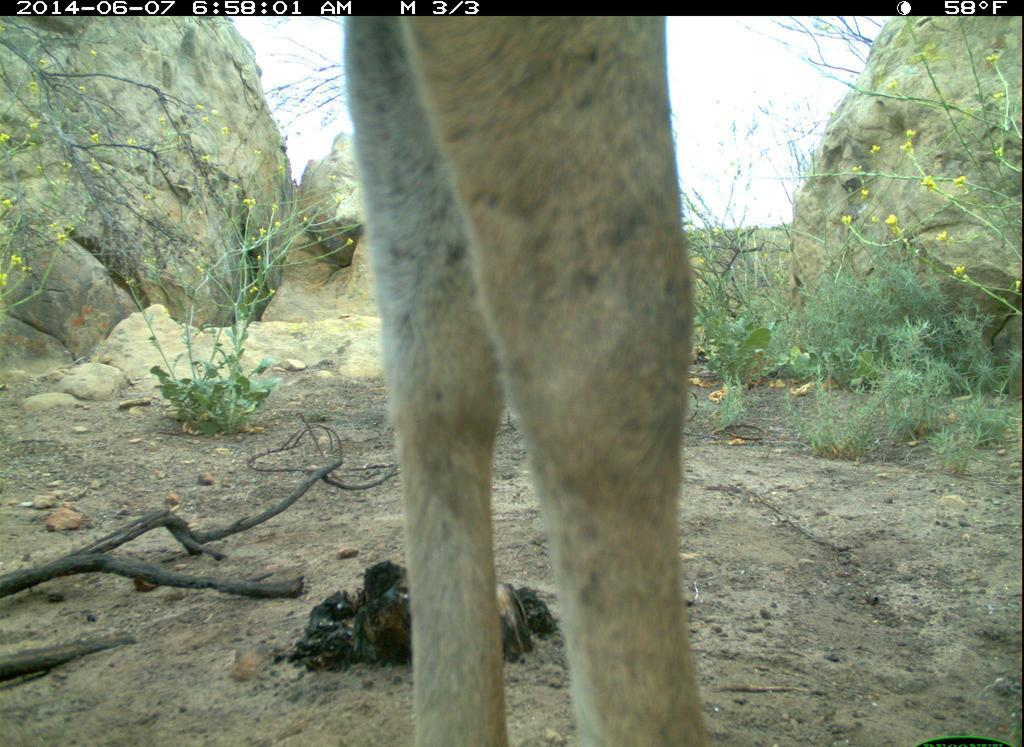deer: (342, 3, 749, 747)
